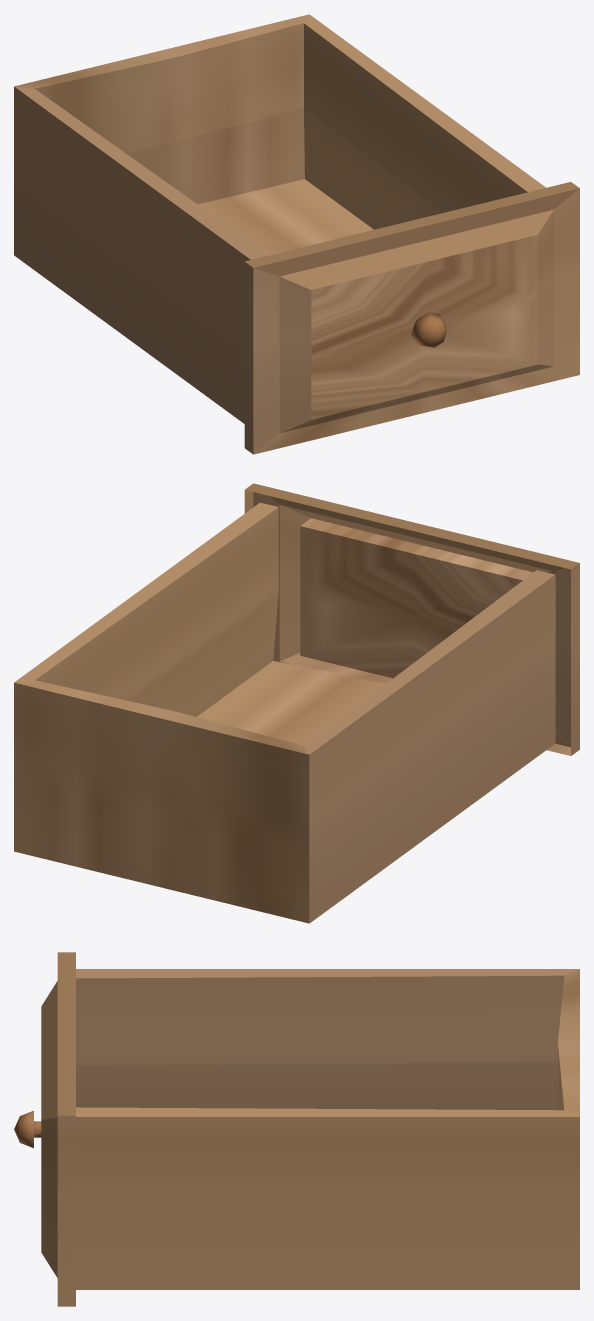
The model's file is Drawer.glb.
3 renders of one model, top to bottom at view 1: azimuth 30°, elevation 25°; view 2: azimuth 150°, elevation 25°; view 3: azimuth 270°, elevation 25°, orthographic. The views are drawn at different scales.
Parts seen in each view (by area): view 1: Cube.005; view 2: Cube.005; view 3: Cube.005.
Boxes of the visible parts, x1,y1,x2,y2 form: Cube.005: [14, 14, 579, 454]; Cube.005: [14, 483, 579, 923]; Cube.005: [14, 952, 579, 1306].
Size of the model in its own units: 1.74 by 0.9524 by 2.56.
2 materials, 1 textured.
